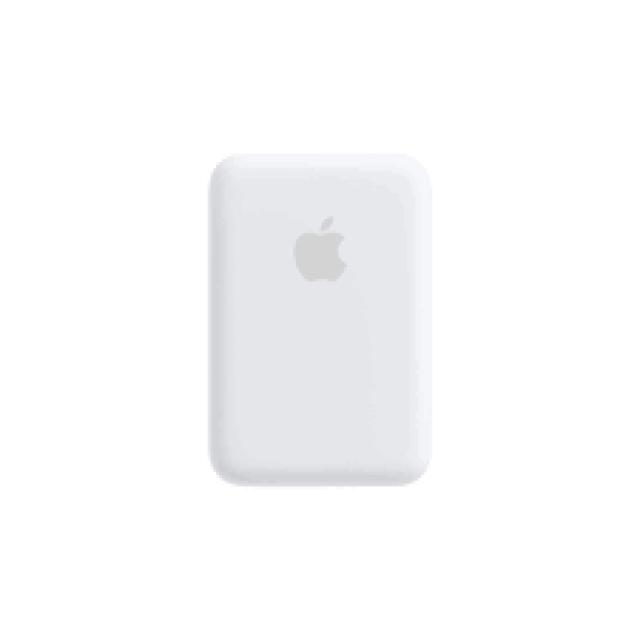portable-charger: (206, 153, 431, 490)
